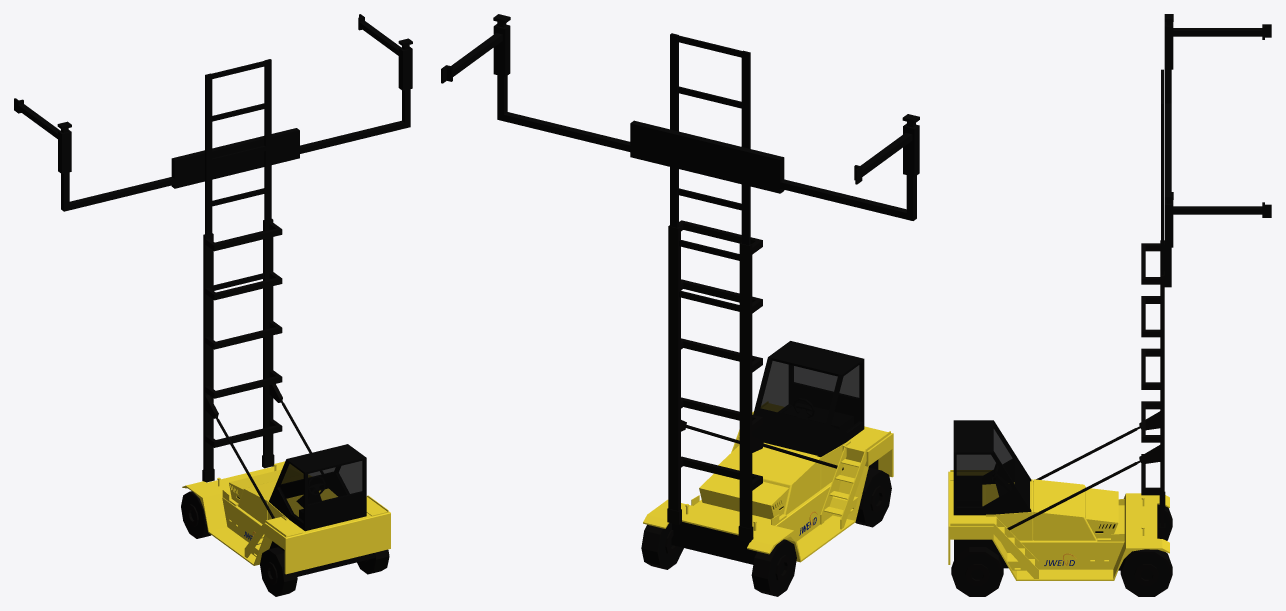
The model's file is 空箱推高机.FBX.
3 renders of one model, left to right at view 1: azimuth 30°, elevation 25°; view 2: azimuth 150°, elevation 25°; view 3: azimuth 270°, elevation 25°, orthographic. The views are drawn at different scales.
Visible parts, largest first — view 1: 上升支架, 车身, 车身支架, 驾驶室, 车窗, 车架, 轮胎001, 液压杆; view 2: 上升支架, 车身, 车身支架, 驾驶室, 车窗, 车架, 轮胎001, 轮胎, 液压杆; view 3: 车身, 驾驶室, 上升支架, 车身支架, 车架, 车窗, 轮胎001, 液压杆, 轮胎.
Boxes of the visible parts, x1=… form: 上升支架: x1=14, y1=14, x2=412, y2=290; 车身: x1=182, y1=461, x2=390, y2=574; 车身支架: x1=202, y1=219, x2=282, y2=482; 驾驶室: x1=269, y1=444, x2=366, y2=531; 车窗: x1=278, y1=460, x2=363, y2=521; 车架: x1=182, y1=494, x2=374, y2=594; 轮胎001: x1=181, y1=491, x2=389, y2=596; 液压杆: x1=205, y1=384, x2=323, y2=518; 上升支架: x1=441, y1=14, x2=919, y2=311; 车身: x1=643, y1=402, x2=893, y2=562; 车身支架: x1=667, y1=220, x2=762, y2=542; 驾驶室: x1=752, y1=341, x2=864, y2=457; 车窗: x1=759, y1=360, x2=861, y2=432; 车架: x1=659, y1=459, x2=890, y2=593; 轮胎001: x1=641, y1=467, x2=891, y2=596; 轮胎: x1=665, y1=485, x2=885, y2=582; 液压杆: x1=681, y1=420, x2=843, y2=470; 车身: x1=948, y1=470, x2=1169, y2=580; 驾驶室: x1=953, y1=420, x2=1031, y2=515; 上升支架: x1=1161, y1=14, x2=1271, y2=287; 车身支架: x1=1141, y1=240, x2=1165, y2=539; 车架: x1=954, y1=509, x2=1169, y2=594; 车窗: x1=956, y1=425, x2=1015, y2=507; 轮胎001: x1=951, y1=504, x2=1172, y2=596; 液压杆: x1=1007, y1=411, x2=1160, y2=530; 轮胎: x1=965, y1=522, x2=1158, y2=585.
Size of the model in its own units: 525 by 644 by 391.
